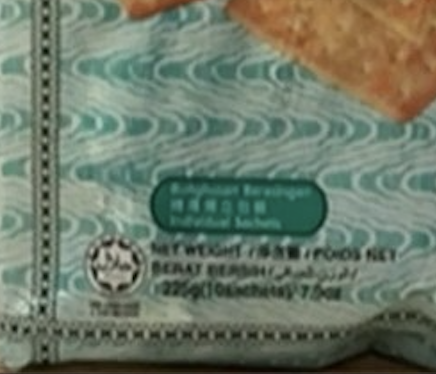halal: (95, 244, 137, 283)
